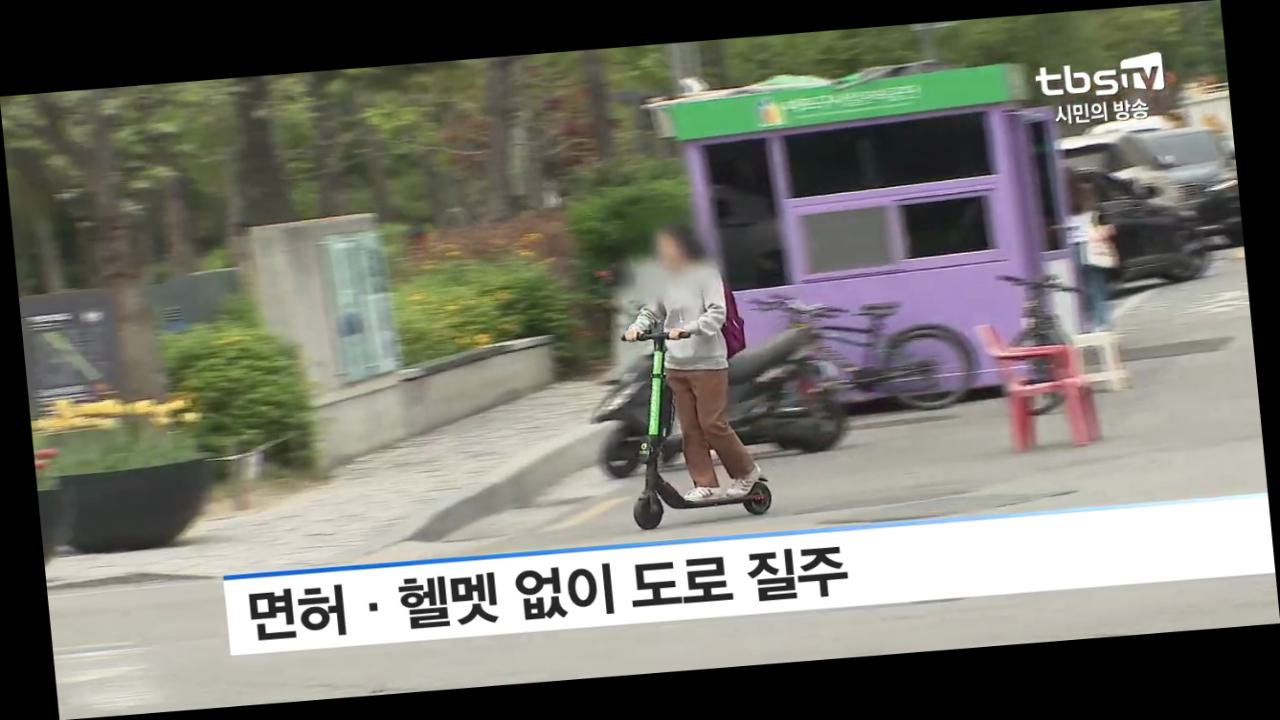nonhelmet: (605, 217, 780, 530)
